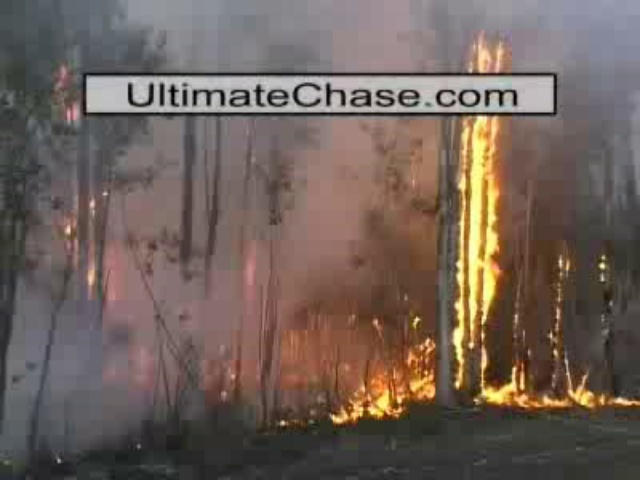fire: (458, 115, 504, 376), (333, 377, 598, 415)
